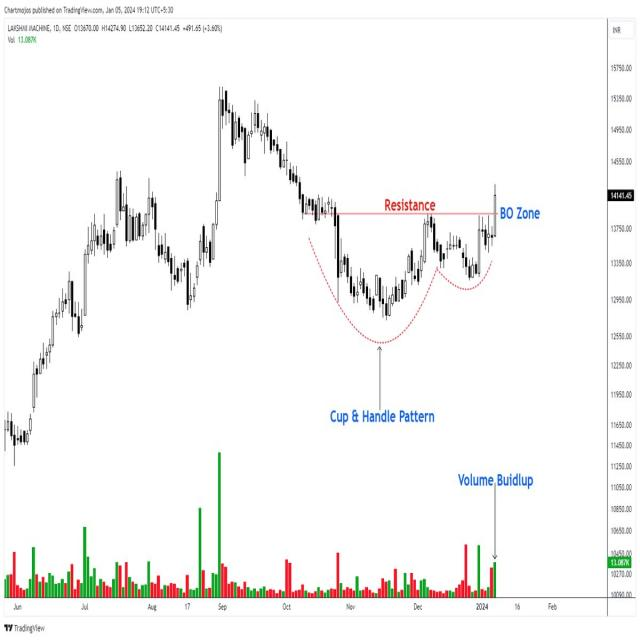Cup-and-handle: (323, 218, 502, 328)
